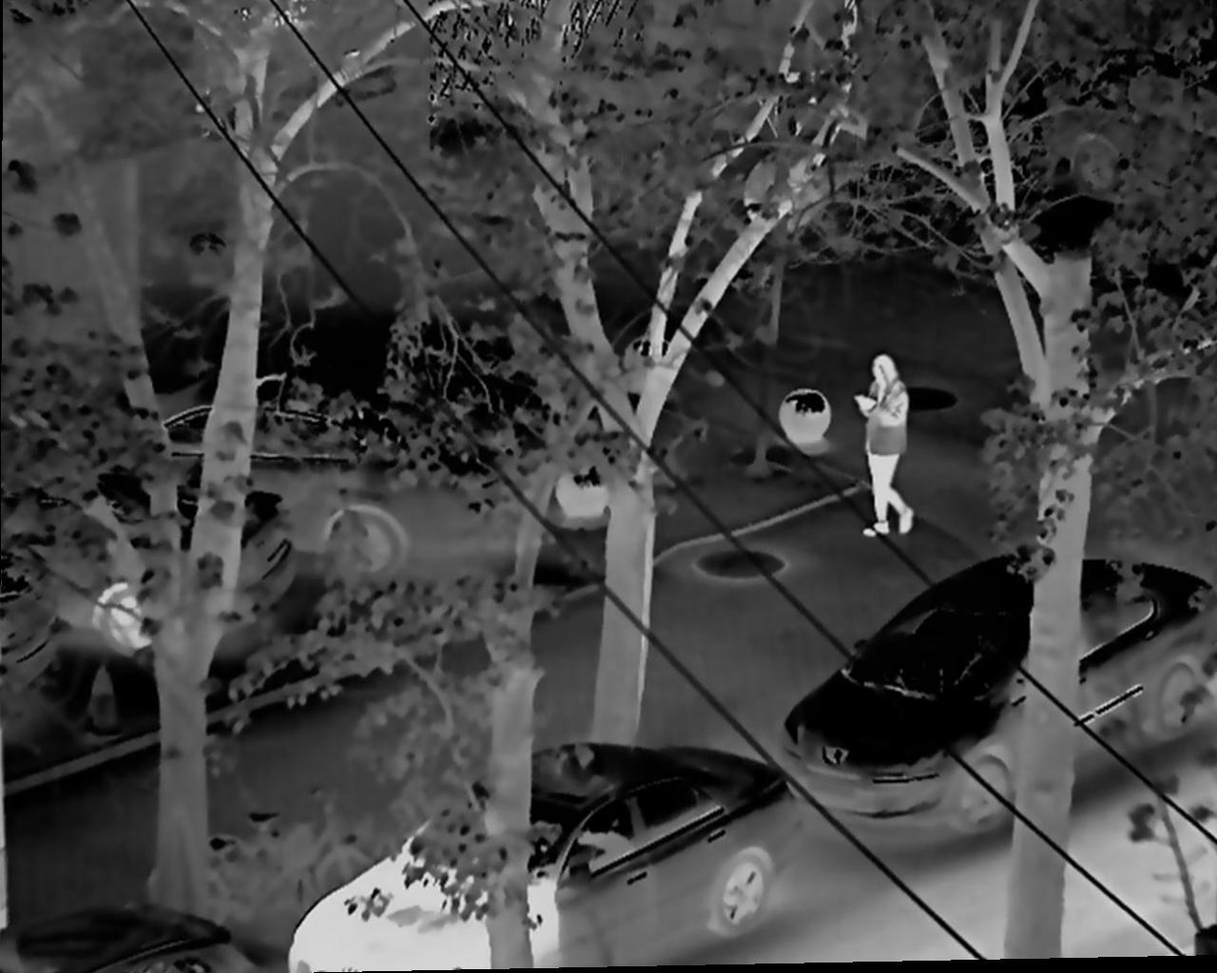person: (851, 353, 914, 539)
